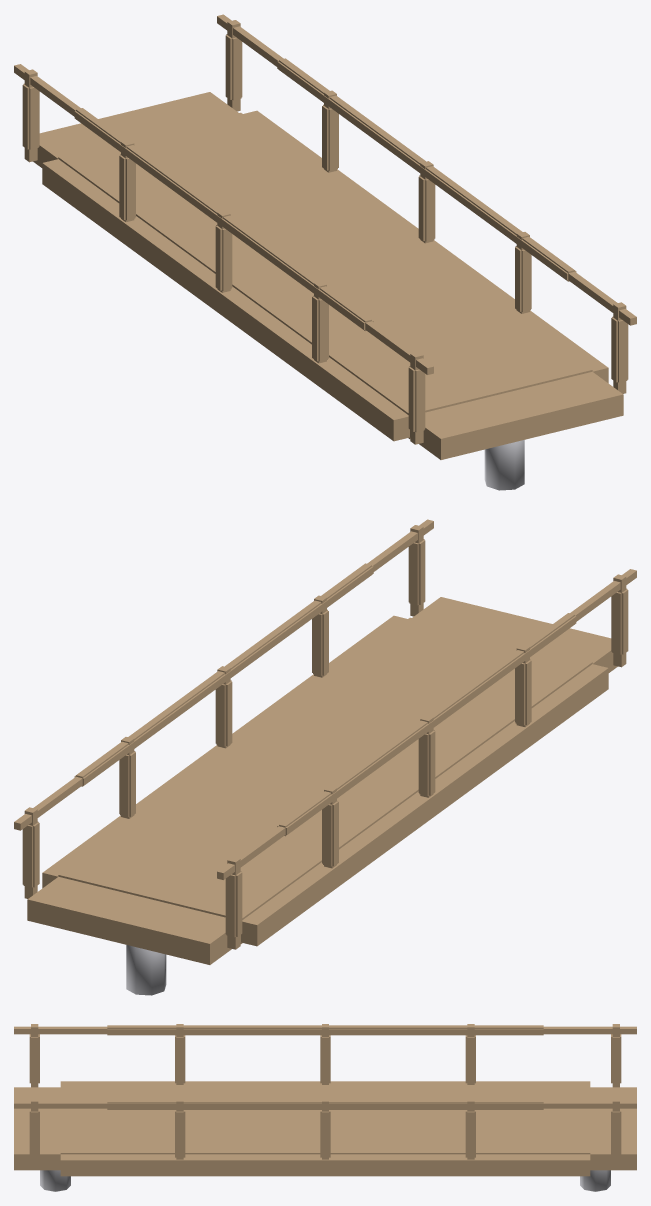
Rendered from build_bridge.glb.
3 views of the same model, one above another, from view 1: azimuth 30°, elevation 25°; view 2: azimuth 150°, elevation 25°; view 3: azimuth 270°, elevation 25° (orthographic). The views are drawn at different scales.
Visible parts, largest first — view 1: box; view 2: box; view 3: box.
Part boxes in pixels (x1=…): box: x1=14, y1=14, x2=636, y2=490; box: x1=14, y1=519, x2=636, y2=995; box: x1=14, y1=1024, x2=636, y2=1191.
Size of the model in its own units: 1.8 by 1.3 by 6.
